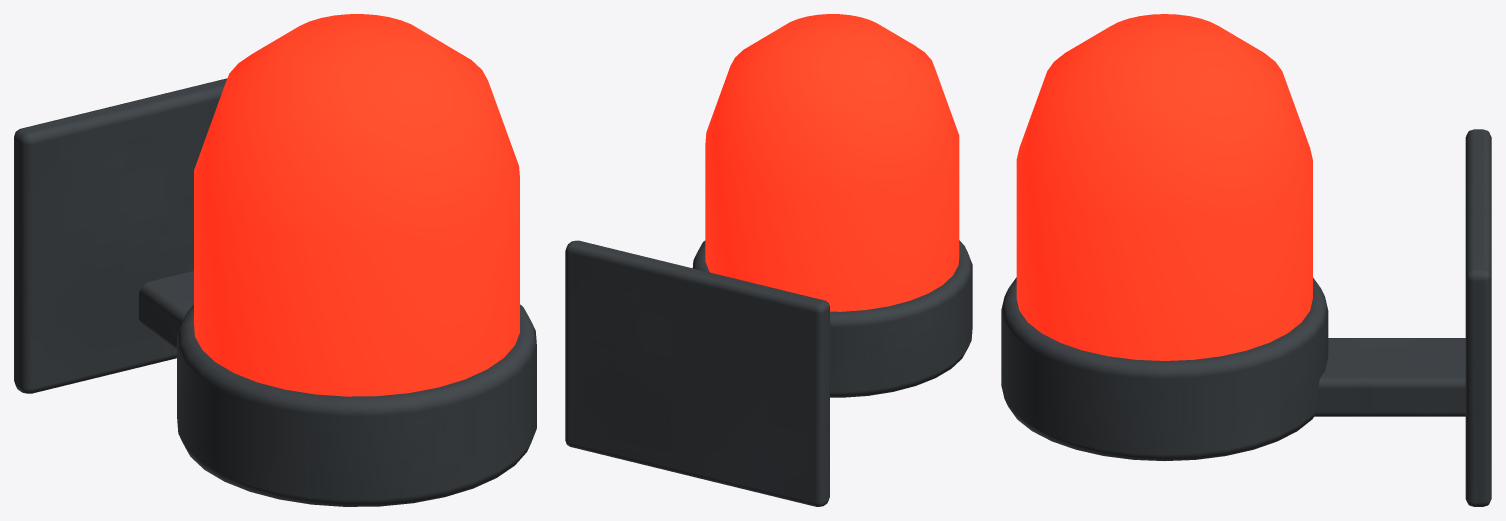
File: AlarmBeacon.glb
3 views of the same model, side by side, from view 1: azimuth 30°, elevation 25°; view 2: azimuth 150°, elevation 25°; view 3: azimuth 270°, elevation 25° (orthographic). The views are drawn at different scales.
Parts seen in each view (by area): view 1: AlarmBeacon_Body; view 2: AlarmBeacon_Body; view 3: AlarmBeacon_Body.
Part boxes in pixels (box(x1,y1,x2,y2)): AlarmBeacon_Body: box(14, 14, 536, 506); AlarmBeacon_Body: box(565, 14, 972, 506); AlarmBeacon_Body: box(1001, 14, 1491, 506).
Bounding box in the file's own units: 0.16 × 0.205 × 0.225.
3 materials, 1 textured.
